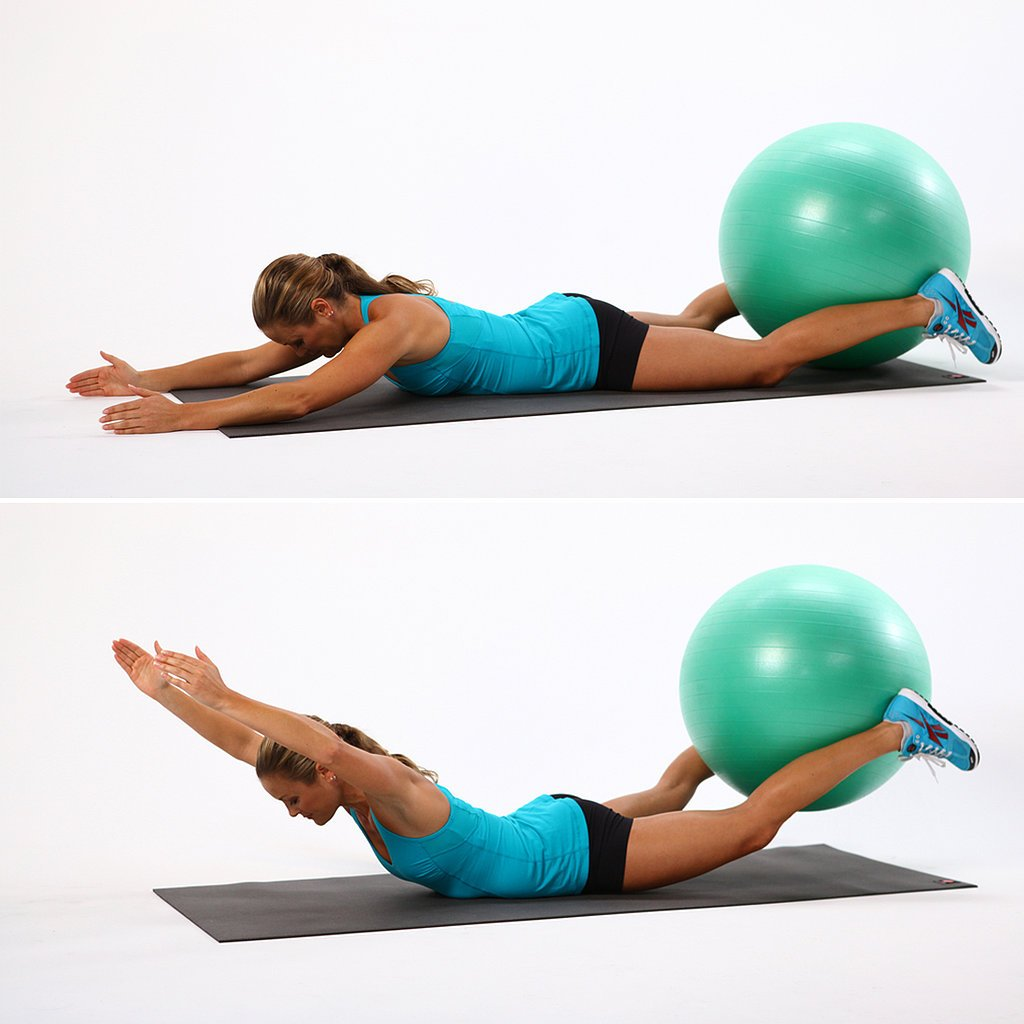yogaball: (715, 97, 983, 379), (675, 553, 944, 818)
